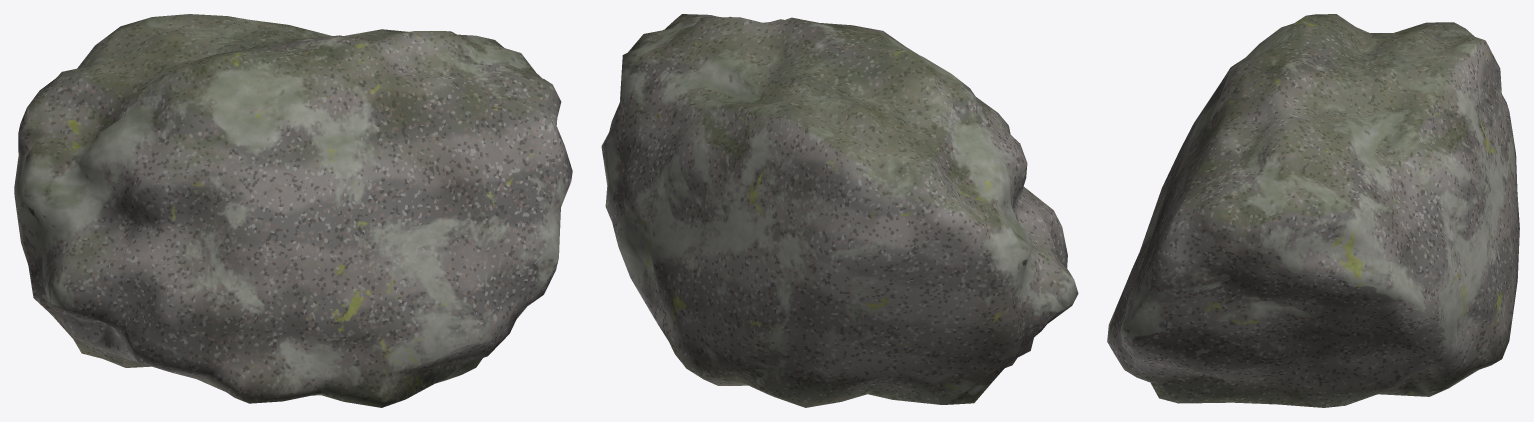
Rendered from boulder_150_LOD0.glb.
3 renders of one model, left to right at view 1: azimuth 30°, elevation 25°; view 2: azimuth 150°, elevation 25°; view 3: azimuth 270°, elevation 25°, orthographic.
Visible parts, largest first — view 1: Boulder_150_LOD0; view 2: Boulder_150_LOD0; view 3: Boulder_150_LOD0.
Part boxes in pixels (x1,y1,x2,y2): Boulder_150_LOD0: (14,14,572,407); Boulder_150_LOD0: (601,14,1078,407); Boulder_150_LOD0: (1107,14,1519,407).
Size of the model in its own units: 1.28 by 0.8347 by 1.
1 material, 1 textured.
